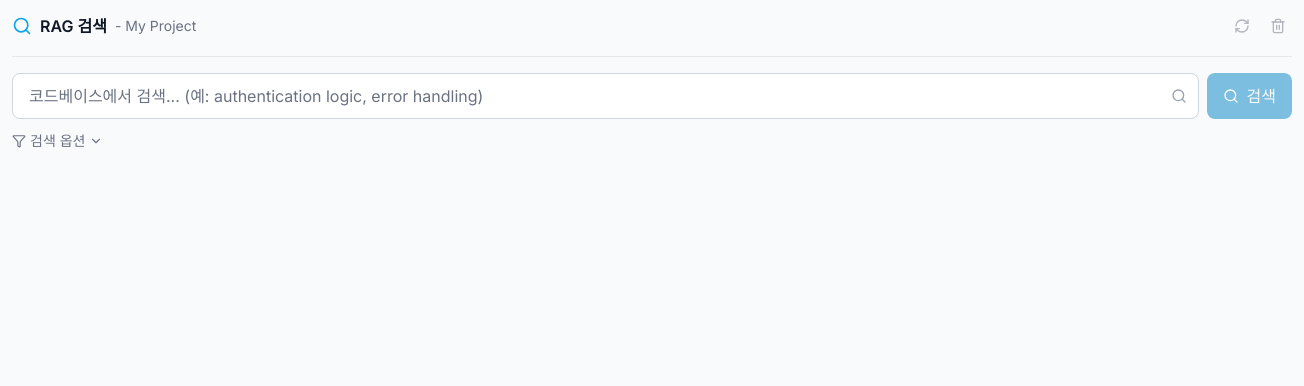
it: RAGQueryPanel › toggles search options
Click the button "검색 옵션" at (58, 141), box [12, 131, 104, 151]
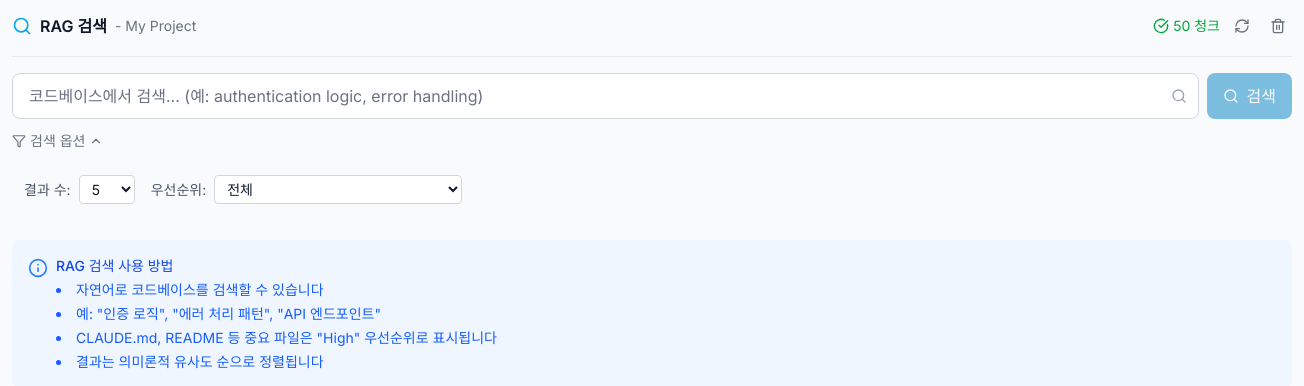
Now the text "결과 수:" is shown, box [24, 180, 71, 200]
Now the text "우선순위:" is shown, box [151, 180, 206, 200]
